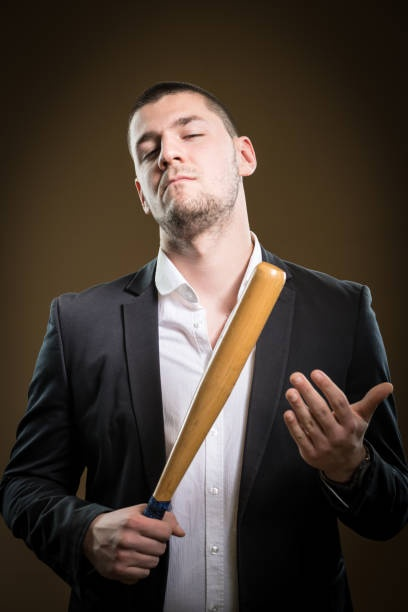bita: (149, 266, 288, 518)
